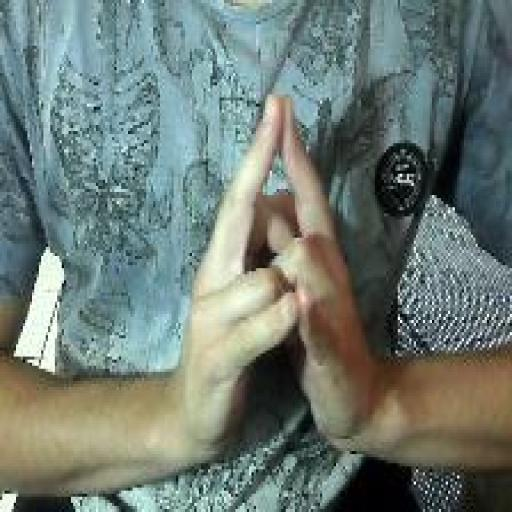Tori -bird-: (175, 87, 376, 468)
